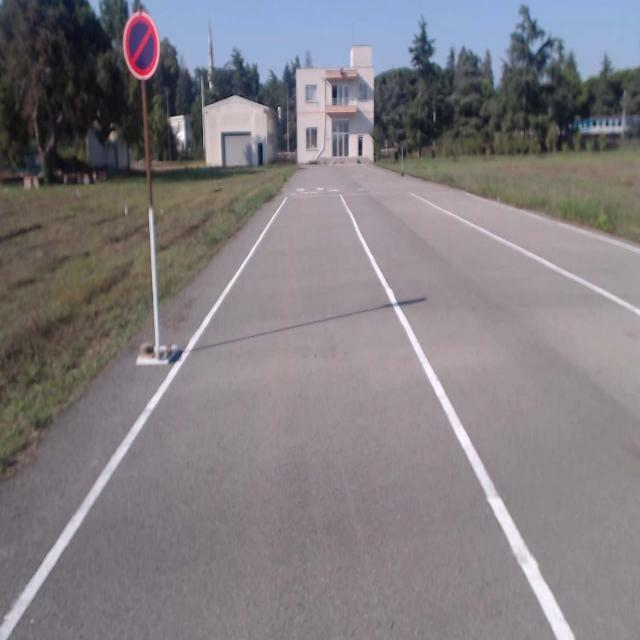parkyasak: (122, 12, 160, 78)
